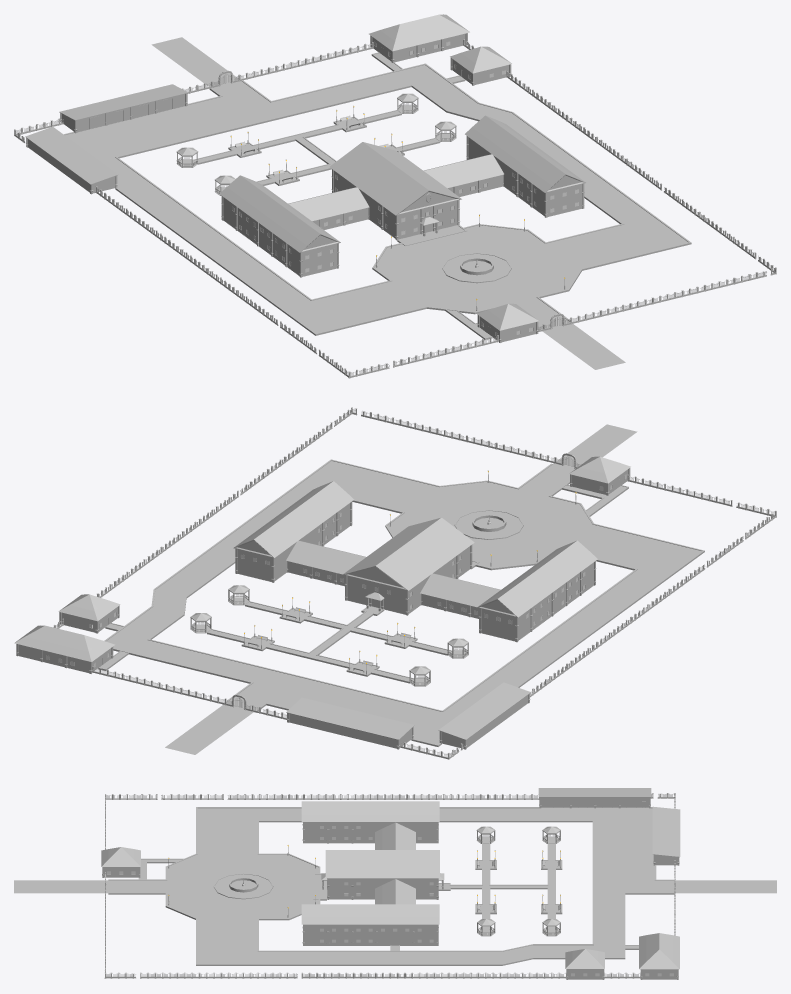
File: Estate.fbx
3 views of the same model, one above another, from view 1: azimuth 30°, elevation 25°; view 2: azimuth 150°, elevation 25°; view 3: azimuth 270°, elevation 25° (orthographic). The views are drawn at different scales.
Visible parts, largest first — view 1: Plane.011, Estate, CemeteryGateArch, EstateRoof, EstateRoof.002, EstateRoof.001, Bordur.011, Bordur.001, EstateRoof.009, EstateRoof.008, Bordur.003, Fontane (+11 smaller); view 2: Plane.011, Estate, CemeteryGateArch, EstateRoof, Bordur.011, EstateRoof.001, EstateRoof.002, EstateRoof.011, EstateRoof.009, Bordur.001, EstateRoof.008, Fontane (+12 smaller); view 3: Plane.011, Estate, CemeteryGateArch, EstateRoof, EstateRoof.001, EstateRoof.002, Bordur.011, Bordur.001, Bordur.003, EstateRoof.008, EstateRoof.011, Fontane (+10 smaller).
Part boxes in pixels (<box>): Plane.011: <box>65,37,688,369</box>; Estate: <box>221,136,584,277</box>; CemeteryGateArch: <box>14,39,776,378</box>; EstateRoof: <box>329,142,461,215</box>; EstateRoof.002: <box>220,175,340,252</box>; EstateRoof.001: <box>465,115,585,192</box>; Bordur.011: <box>193,110,440,185</box>; Bordur.001: <box>115,84,624,300</box>; EstateRoof.009: <box>25,126,118,184</box>; EstateRoof.008: <box>369,14,469,51</box>; Bordur.003: <box>241,63,691,321</box>; Fontane: <box>442,253,511,283</box>; Plane.011: <box>106,424,701,754</box>; Estate: <box>235,501,596,642</box>; CemeteryGateArch: <box>53,407,776,759</box>; EstateRoof: <box>343,517,474,590</box>; Bordur.011: <box>207,601,451,683</box>; EstateRoof.001: <box>233,481,354,557</box>; EstateRoof.002: <box>477,540,597,617</box>; EstateRoof.011: <box>286,697,414,739</box>; EstateRoof.009: <box>438,682,530,739</box>; Bordur.001: <box>147,500,637,711</box>; EstateRoof.008: <box>14,625,114,661</box>; Fontane: <box>454,510,523,539</box>; Plane.011: <box>14,808,776,963</box>; Estate: <box>302,822,438,945</box>; CemeteryGateArch: <box>104,793,675,978</box>; EstateRoof: <box>325,850,439,878</box>; EstateRoof.001: <box>301,904,439,924</box>; EstateRoof.002: <box>301,801,439,821</box>; Bordur.011: <box>438,843,562,929</box>; Bordur.001: <box>257,820,593,951</box>; Bordur.003: <box>108,892,674,965</box>; EstateRoof.008: <box>639,933,679,969</box>; EstateRoof.011: <box>652,806,680,857</box>; Fontane: <box>213,873,273,899</box>.
Bounding box in the file's own units: 14230 × 1367 × 25008.
